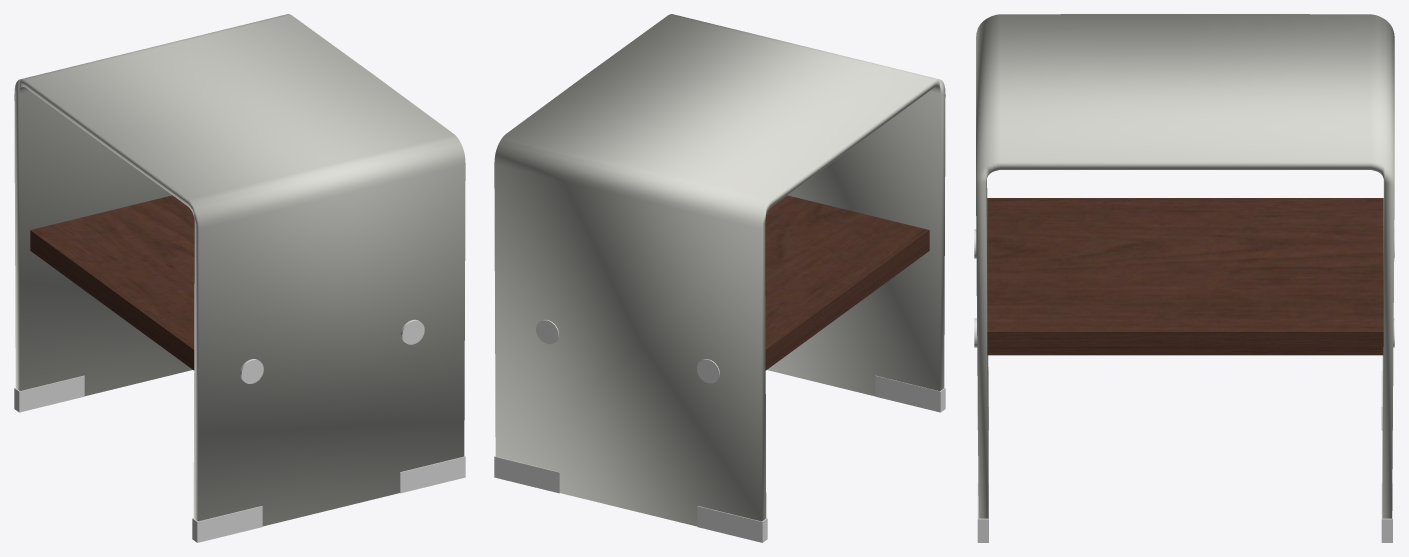
The model's file is ND-0893__Aris_MESA36.glb.
The picture shows the model from 3 angles, left to right: view 1: azimuth 30°, elevation 25°; view 2: azimuth 150°, elevation 25°; view 3: azimuth 270°, elevation 25°; orthographic projection. The views are drawn at different scales.
Visible parts, largest first — view 1: Cube.002, Cube, Cube.005, Cube.003, Cube.004; view 2: Cube.002, Cube, Cube.003, Cube.005, Cube.001; view 3: Cube.002, Cube.
Boxes of the visible parts, x1,y1,x2,y2 form: Cube.002: [14, 14, 465, 526]; Cube: [30, 195, 194, 370]; Cube.005: [192, 506, 262, 542]; Cube.003: [14, 375, 84, 412]; Cube.004: [400, 456, 465, 493]; Cube.002: [494, 14, 945, 526]; Cube: [765, 195, 929, 370]; Cube.003: [697, 506, 767, 542]; Cube.005: [875, 375, 945, 412]; Cube.001: [494, 456, 559, 493]; Cube.002: [976, 14, 1394, 518]; Cube: [987, 198, 1383, 355].
Bounding box in the file's own units: 1.33 × 1.59 × 1.59.
Materials: 7 (1 with a texture image).
